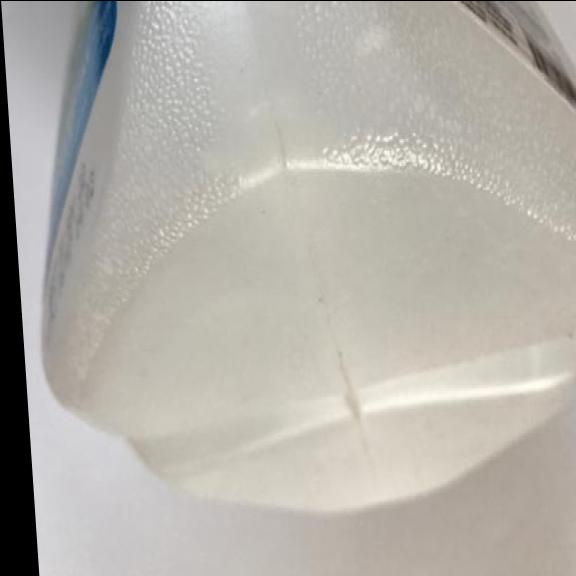Plastik: (16, 0, 576, 515)
